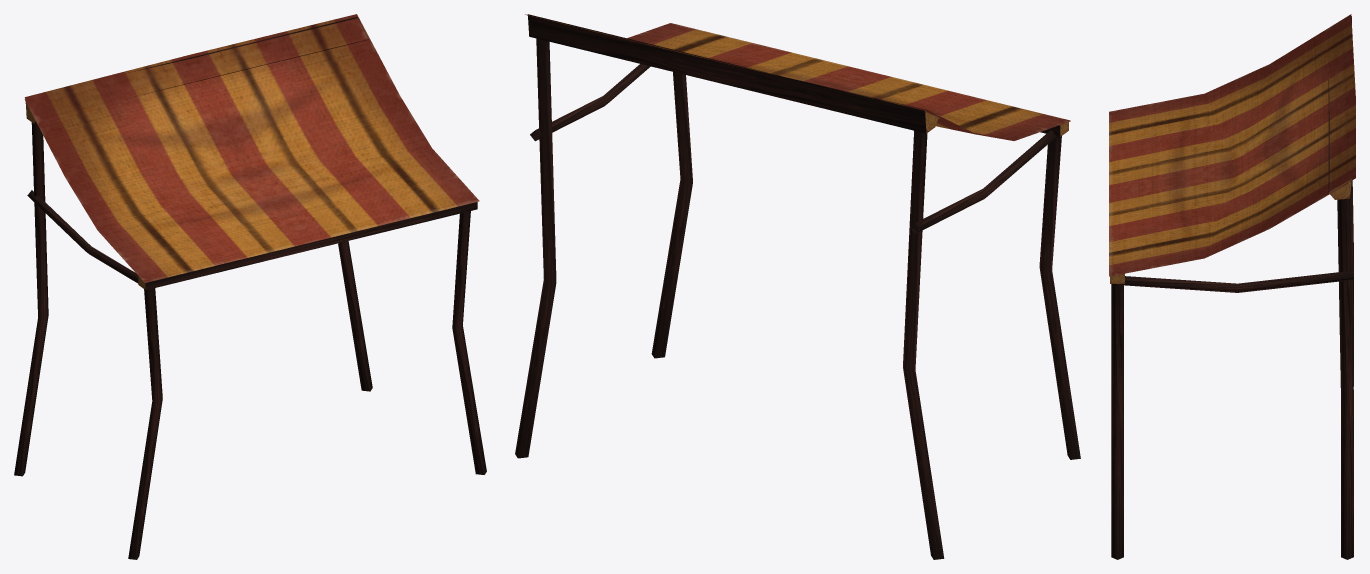
File: Sunblind_02.FBX
3 views of the same model, side by side, from view 1: azimuth 30°, elevation 25°; view 2: azimuth 150°, elevation 25°; view 3: azimuth 270°, elevation 25° (orthographic). The views are drawn at different scales.
Visible parts, largest first — view 1: Sunblind_02; view 2: Sunblind_02; view 3: Sunblind_02.
Boxes of the visible parts, bbox=[...] form: Sunblind_02: bbox=[14, 14, 486, 559]; Sunblind_02: bbox=[515, 14, 1080, 559]; Sunblind_02: bbox=[1109, 14, 1355, 559].
Size of the model in its own units: 0.5264 by 0.5239 by 0.3116.
